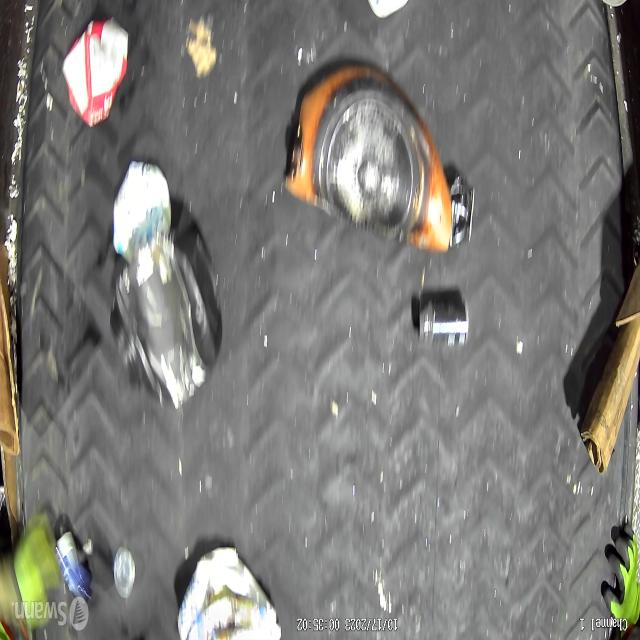non_white_jug: (110, 228, 222, 408)
